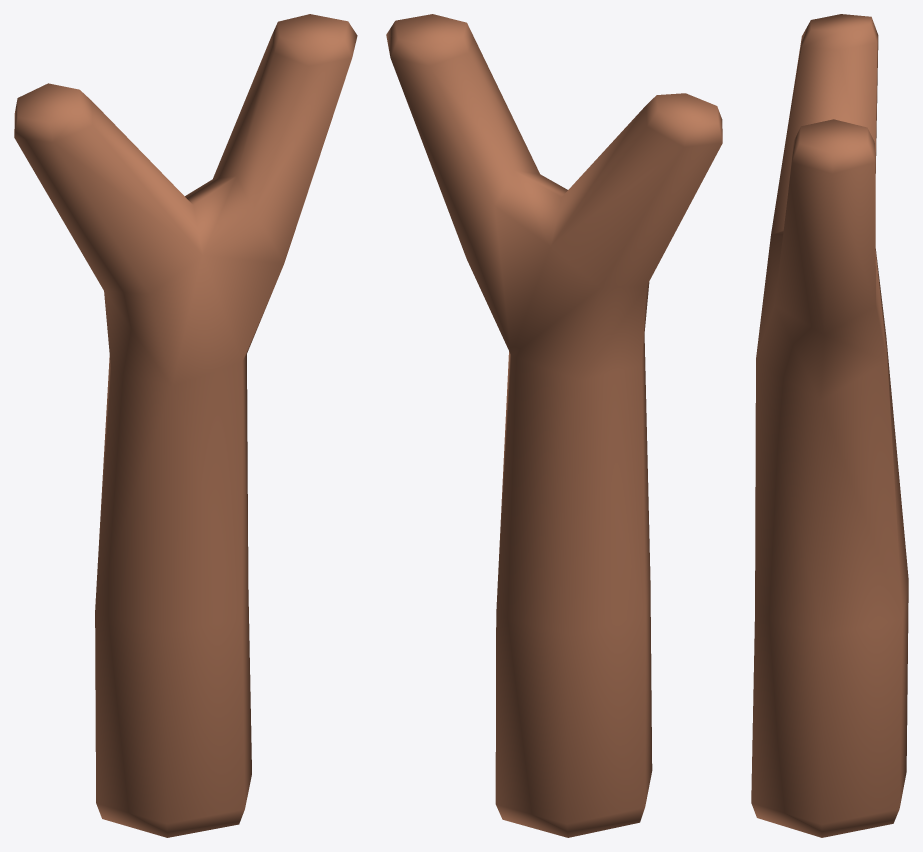
The model's file is Tree_Btm_B_01_LOD2.gltf.
3 renders of one model, left to right at view 1: azimuth 30°, elevation 25°; view 2: azimuth 150°, elevation 25°; view 3: azimuth 270°, elevation 25°, orthographic.
Visible parts, largest first — view 1: Tree_Btm_B_01_LOD2_Cylinder.679; view 2: Tree_Btm_B_01_LOD2_Cylinder.679; view 3: Tree_Btm_B_01_LOD2_Cylinder.679.
Boxes of the visible parts, box(x1,y1,x2,y2) form: Tree_Btm_B_01_LOD2_Cylinder.679: box(14, 14, 357, 837); Tree_Btm_B_01_LOD2_Cylinder.679: box(386, 14, 722, 837); Tree_Btm_B_01_LOD2_Cylinder.679: box(751, 14, 908, 837).
Size of the model in its own units: 2.17 by 4.6 by 0.876.
Materials: 1 (1 with a texture image).
